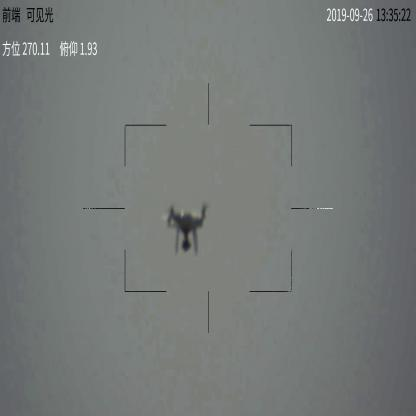uav: (161, 198, 215, 254)
